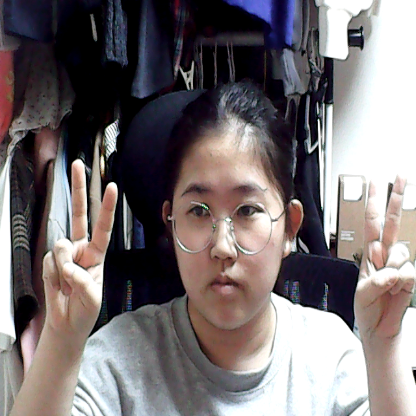Finger_2: (35, 151, 127, 339), (338, 158, 416, 350)
